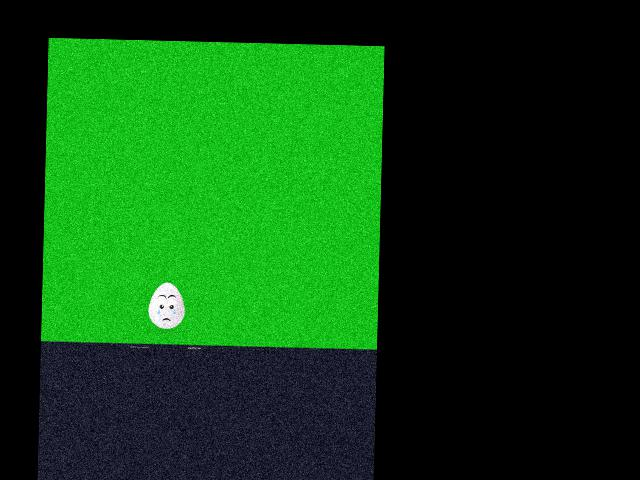egg: (147, 282, 185, 329)
